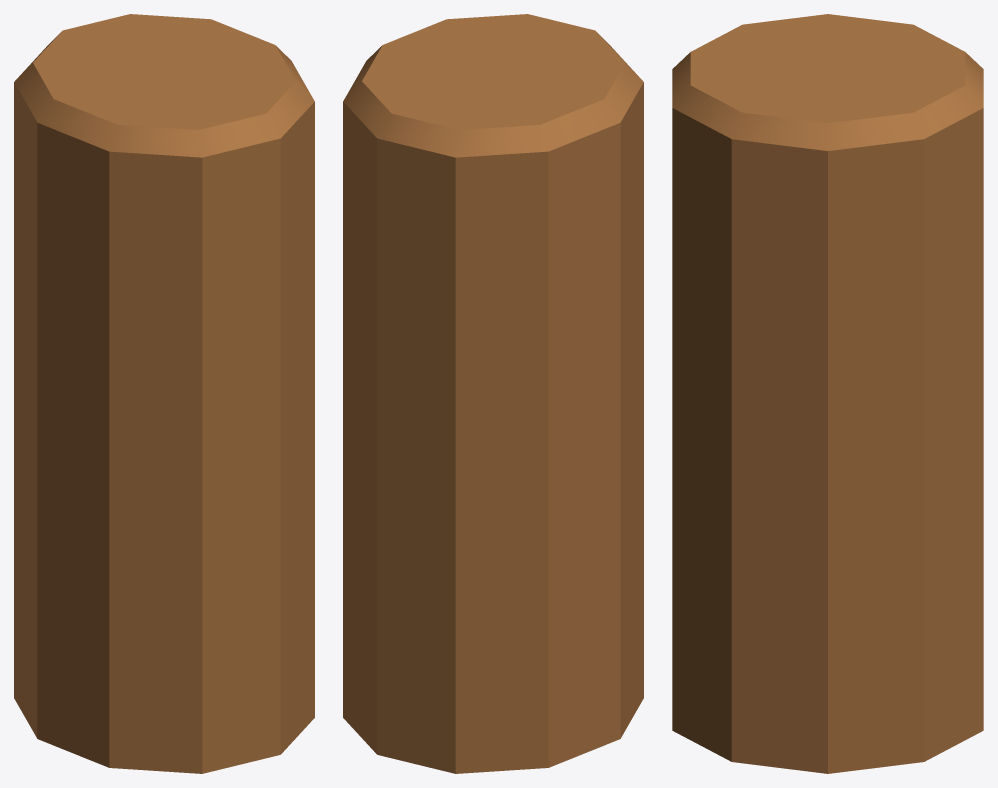
Rendered from Bottle.fbx.
The picture shows the model from 3 angles, left to right: view 1: azimuth 30°, elevation 25°; view 2: azimuth 150°, elevation 25°; view 3: azimuth 270°, elevation 25°; orthographic projection.
Parts seen in each view (by area): view 1: pCylinder13; view 2: pCylinder13; view 3: pCylinder13.
Part boxes in pixels (left/top/right/bottom): pCylinder13: left=14, top=14, right=314, bottom=773; pCylinder13: left=343, top=14, right=643, bottom=773; pCylinder13: left=672, top=14, right=983, bottom=773.
Bounding box in the file's own units: 0.3266 × 0.7812 × 0.3429.
